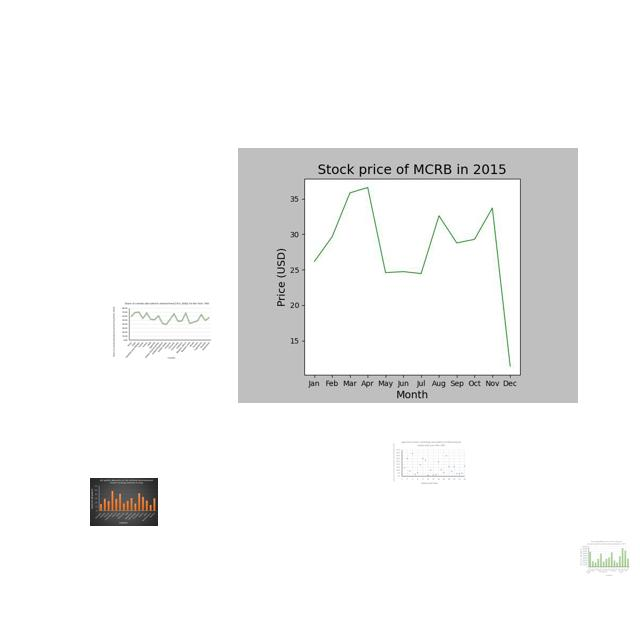Graph: (238, 148, 578, 403), (111, 301, 213, 361), (390, 439, 467, 486), (90, 478, 158, 526), (579, 540, 630, 577)
